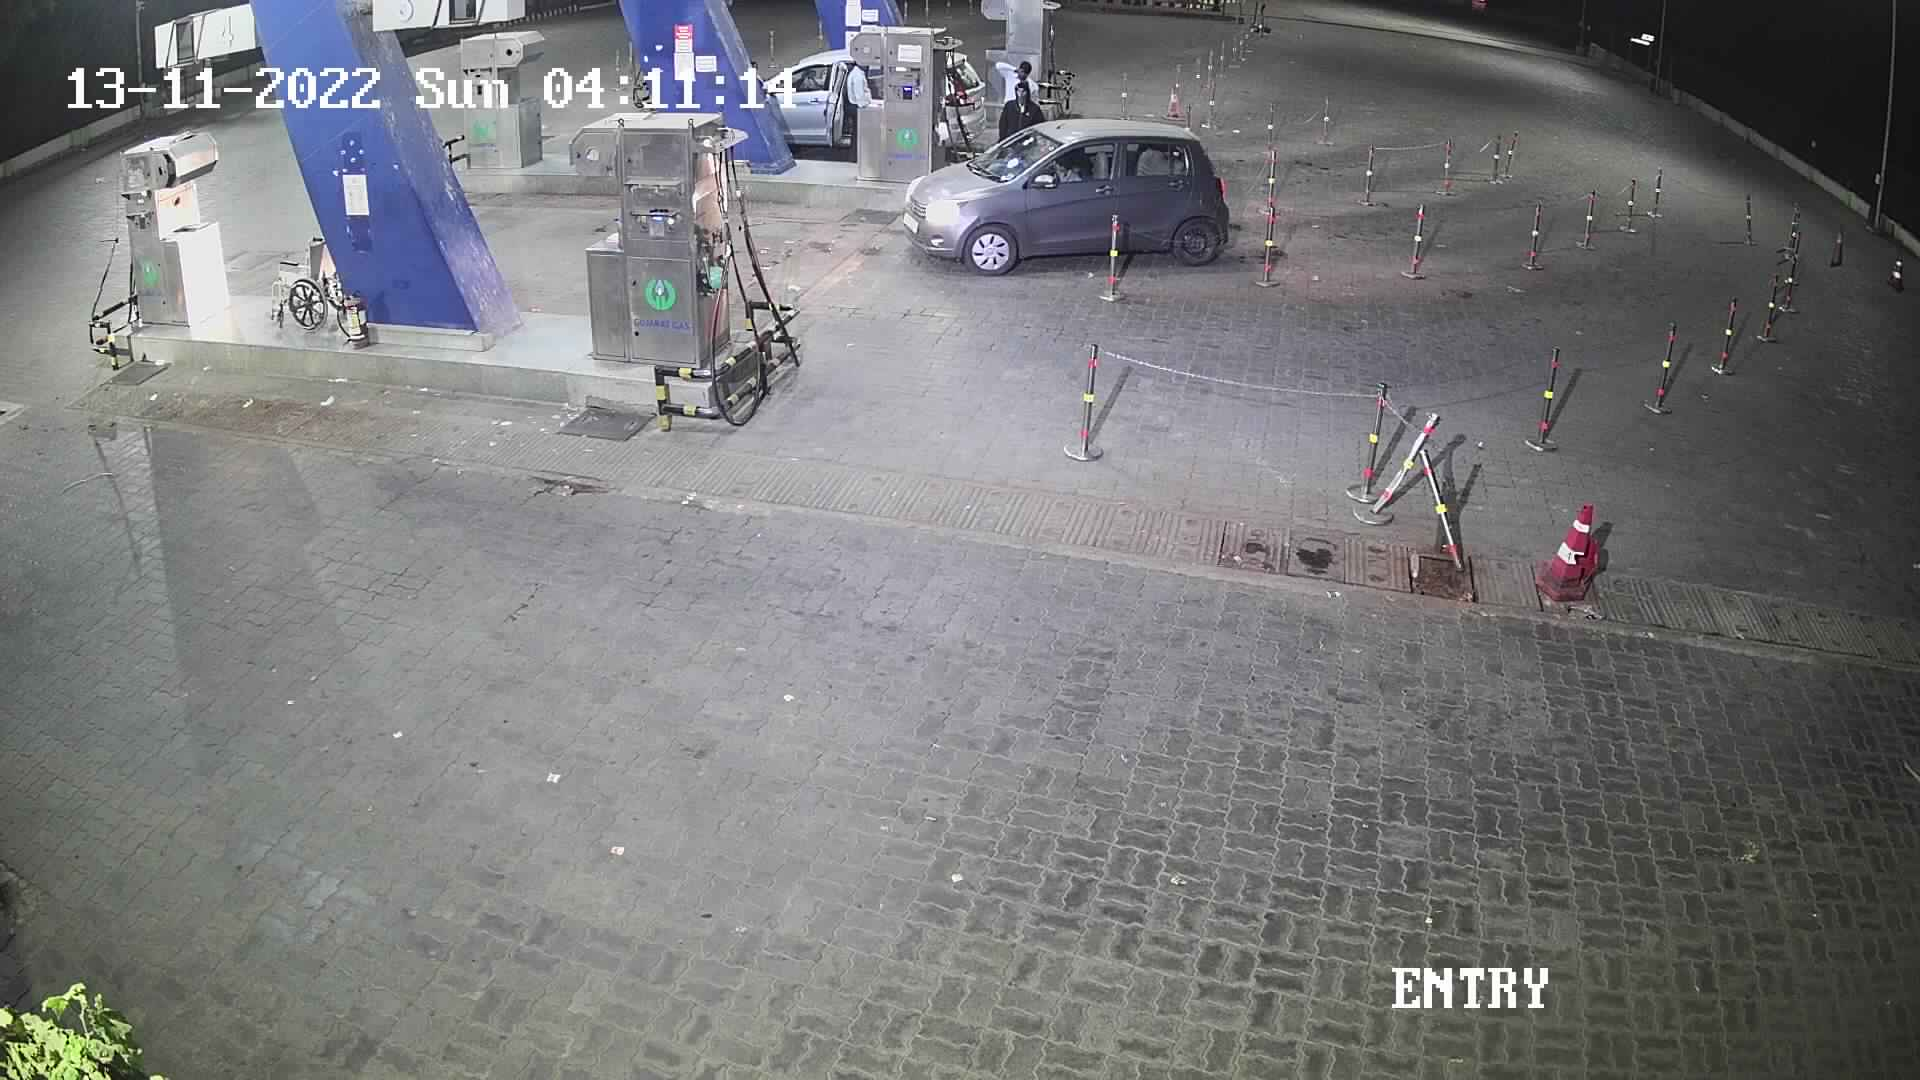Car: (903, 94, 1233, 293), (745, 21, 959, 169)
